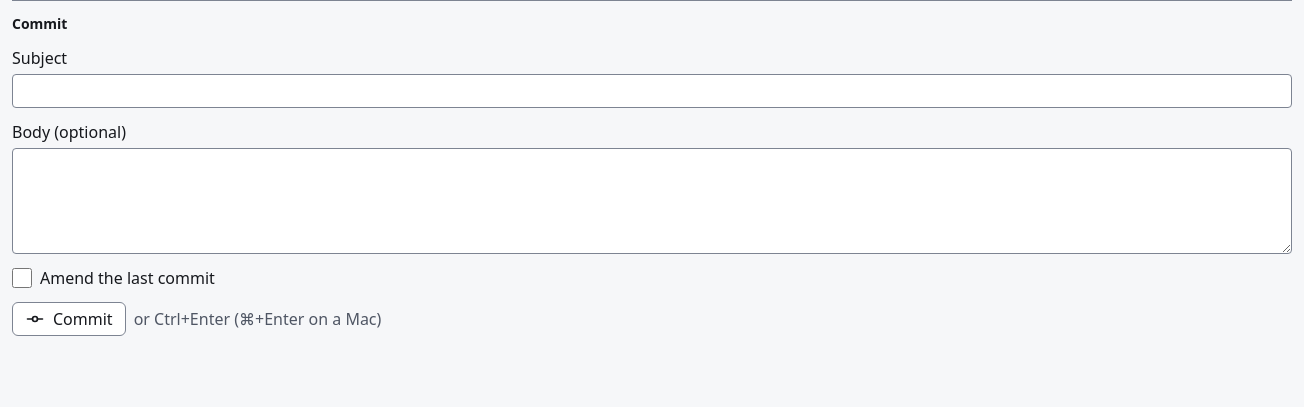
Test: with nothing staged, it says to stage something first
Type "Nothing yet" into the field labelled "Subject" at [652, 91], box 12,74 -> 1292,108
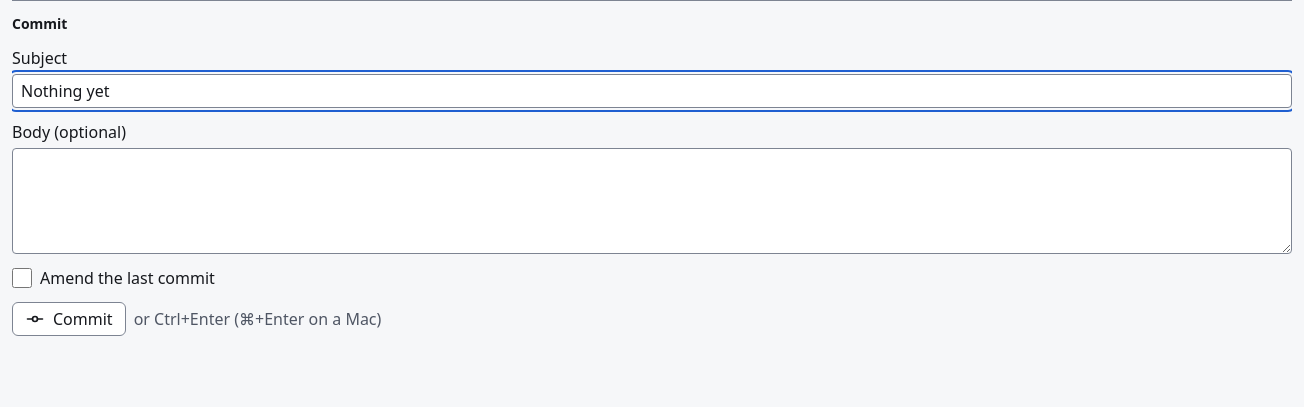
Click the button "Commit" at [69, 319], box 12,302 -> 126,336
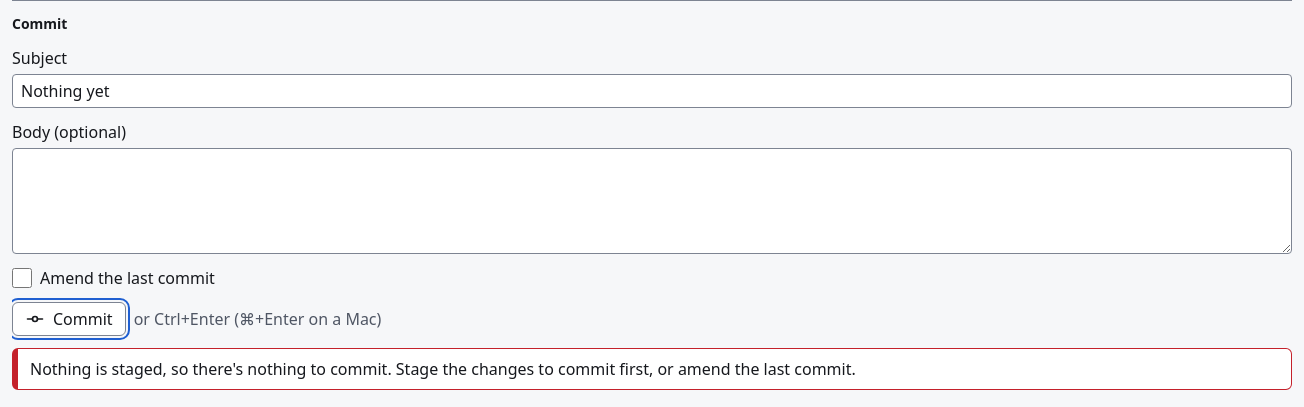
Expected: the message shows "Nothing is staged, so there's nothing to commit", 30,358 -> 856,380
